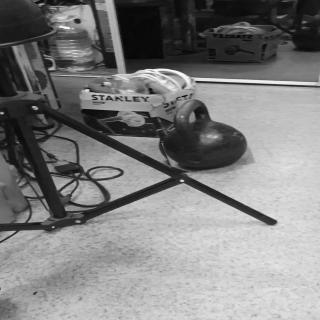kettlebell: (153, 97, 251, 173)
